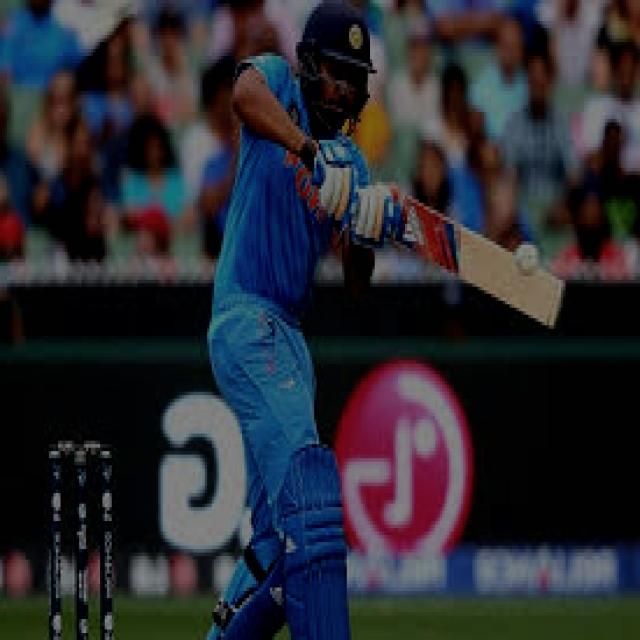toe: (527, 273, 563, 329)
